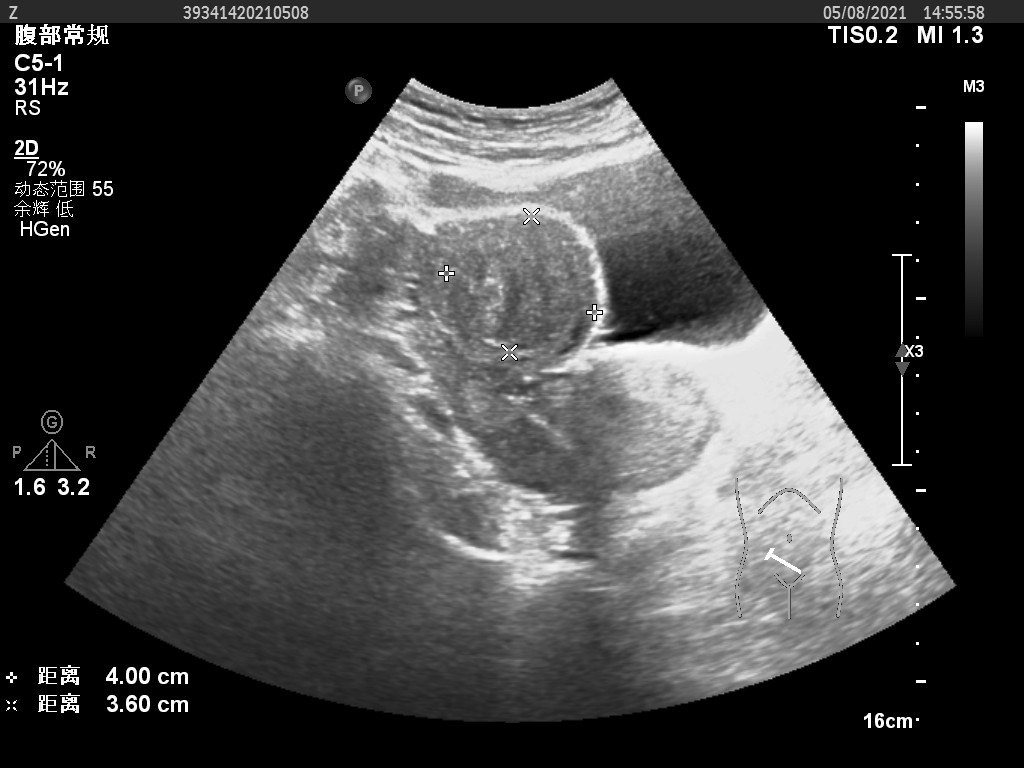肌瘤: (448, 225, 587, 357)
